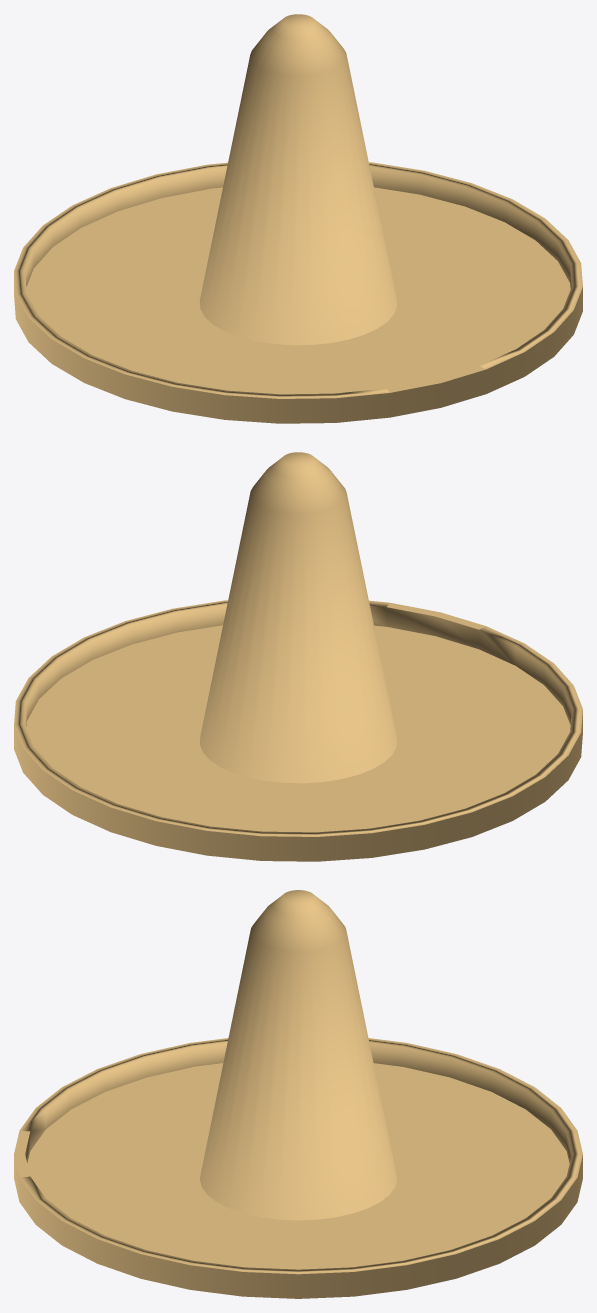
File: Sombrero.obj
The picture shows the model from 3 angles, top to bottom: view 1: azimuth 30°, elevation 25°; view 2: azimuth 150°, elevation 25°; view 3: azimuth 270°, elevation 25°; orthographic projection.
Visible parts, largest first — view 1: Sombrero; view 2: Sombrero; view 3: Sombrero.
Boxes of the visible parts, x1,y1,x2,y2 form: Sombrero: (14,14,582,423); Sombrero: (14,452,582,861); Sombrero: (14,890,582,1298).
Size of the model in its own units: 5.52 by 3.02 by 5.52.
